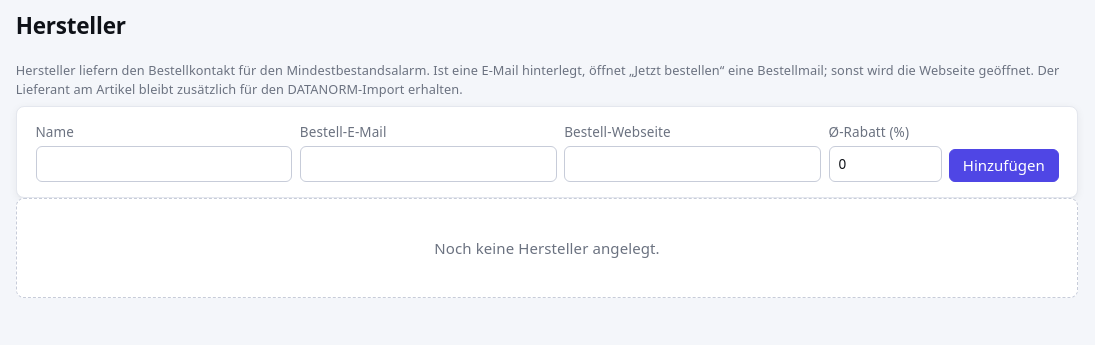
Test: HerstellerView — Ø-Rabatt › lehnt einen Rabatt ausserhalb 0…100 % ab
Type "Neuer Lieferant" into the field labelled "Name" at (164, 164), box top-left (36, 146), bottom-right (292, 182)
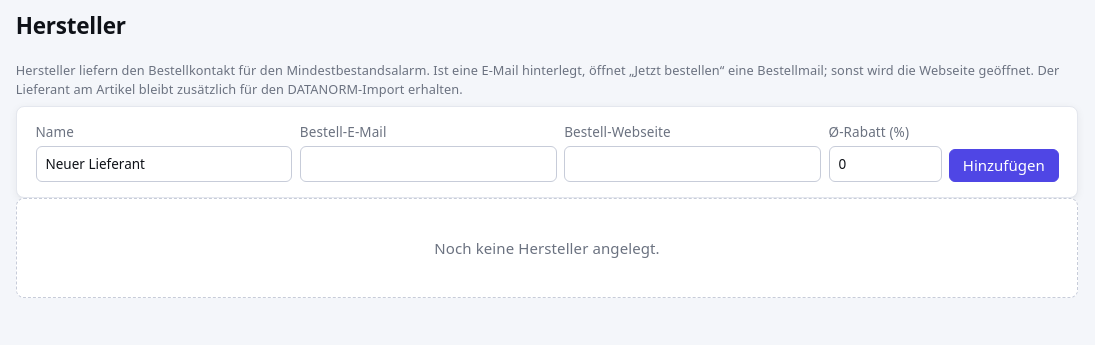
Replace the text in the number field with test id "hersteller-rabattsatz" with "120" at (885, 164), box top-left (828, 146), bottom-right (942, 182)
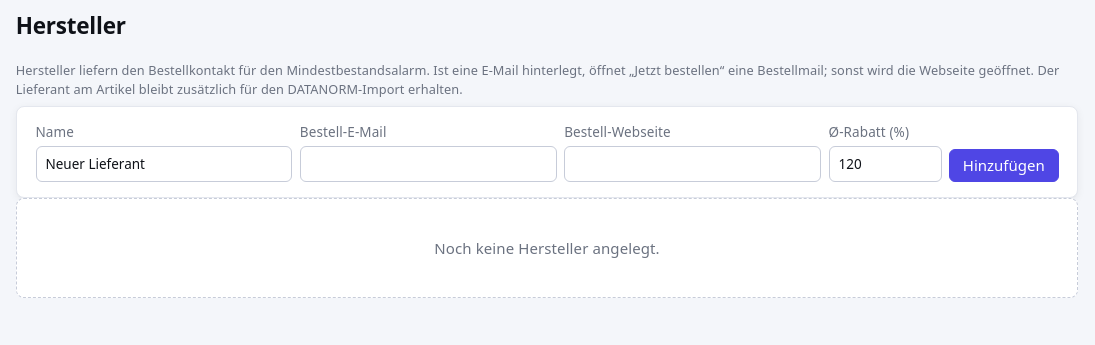
Submit the form with class "neu-form", box top-left (36, 122), bottom-right (1058, 182)
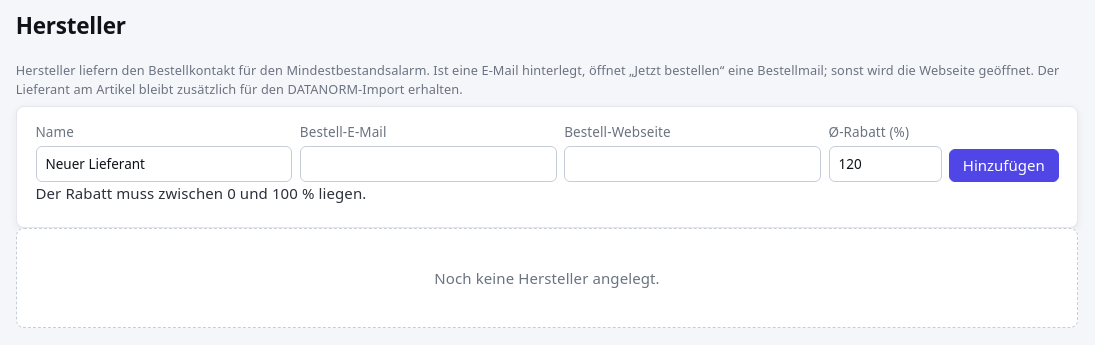
Now the text "Der Rabatt muss zwischen 0 und 100 % liegen." is shown, box top-left (36, 183), bottom-right (366, 203)
